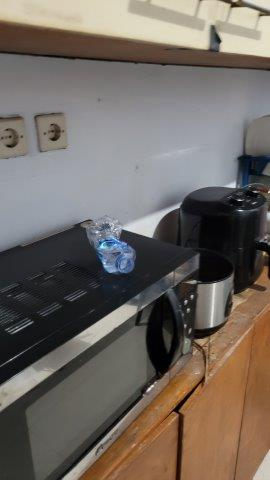botolplastik: (86, 215, 137, 277)
